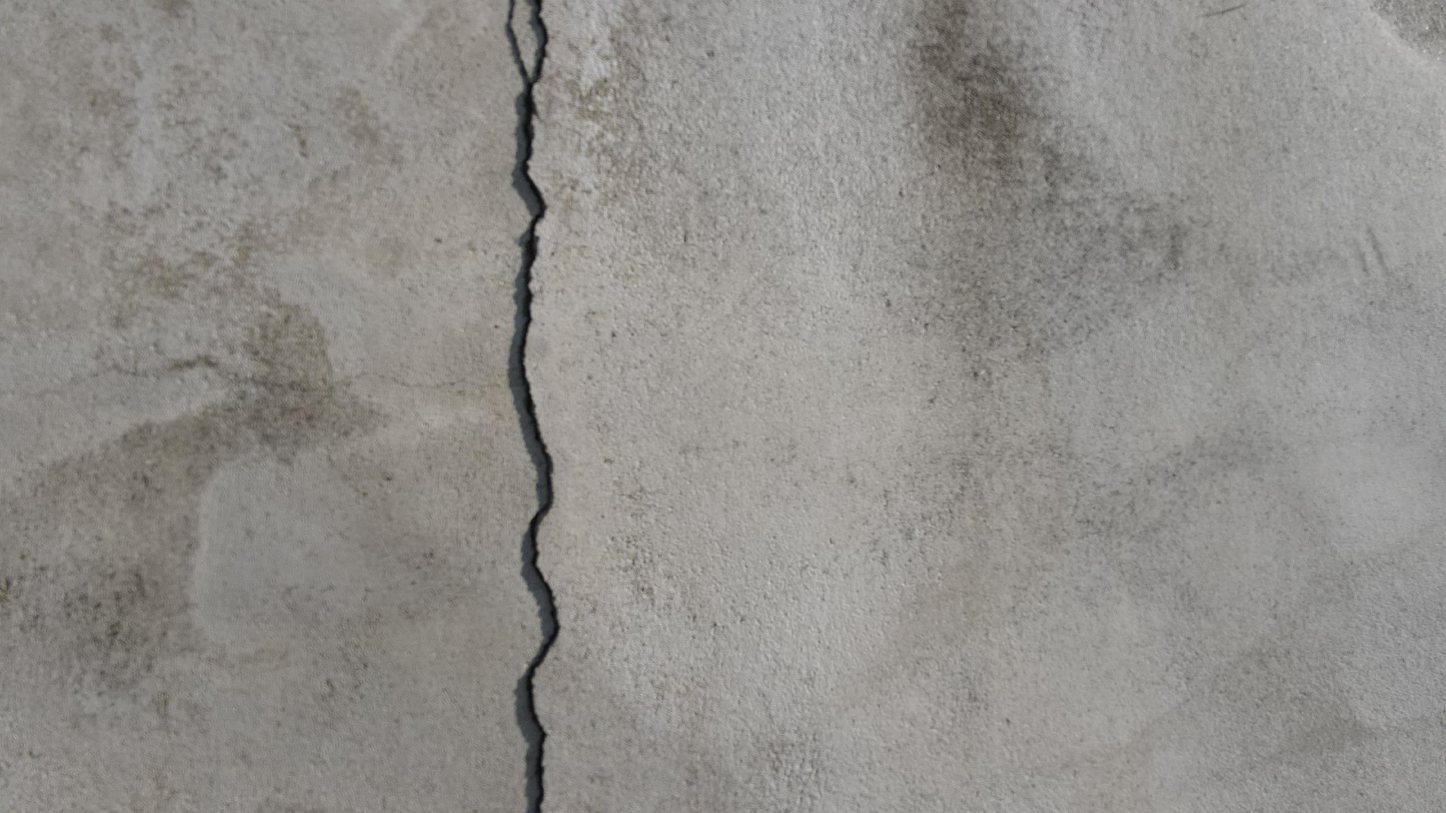crack: (512, 0, 566, 812)
